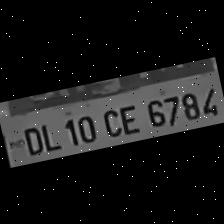0: (71, 110, 100, 144)
1: (58, 114, 80, 149)
4: (195, 84, 221, 119)
6: (140, 95, 168, 130)
7: (160, 91, 182, 126)
8: (174, 88, 200, 122)
C: (96, 104, 122, 140)
D: (17, 121, 46, 157)
E: (114, 100, 141, 136)
L: (37, 116, 62, 153)
